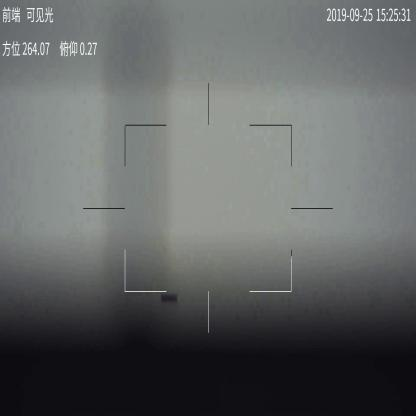uav: (158, 290, 177, 308)
